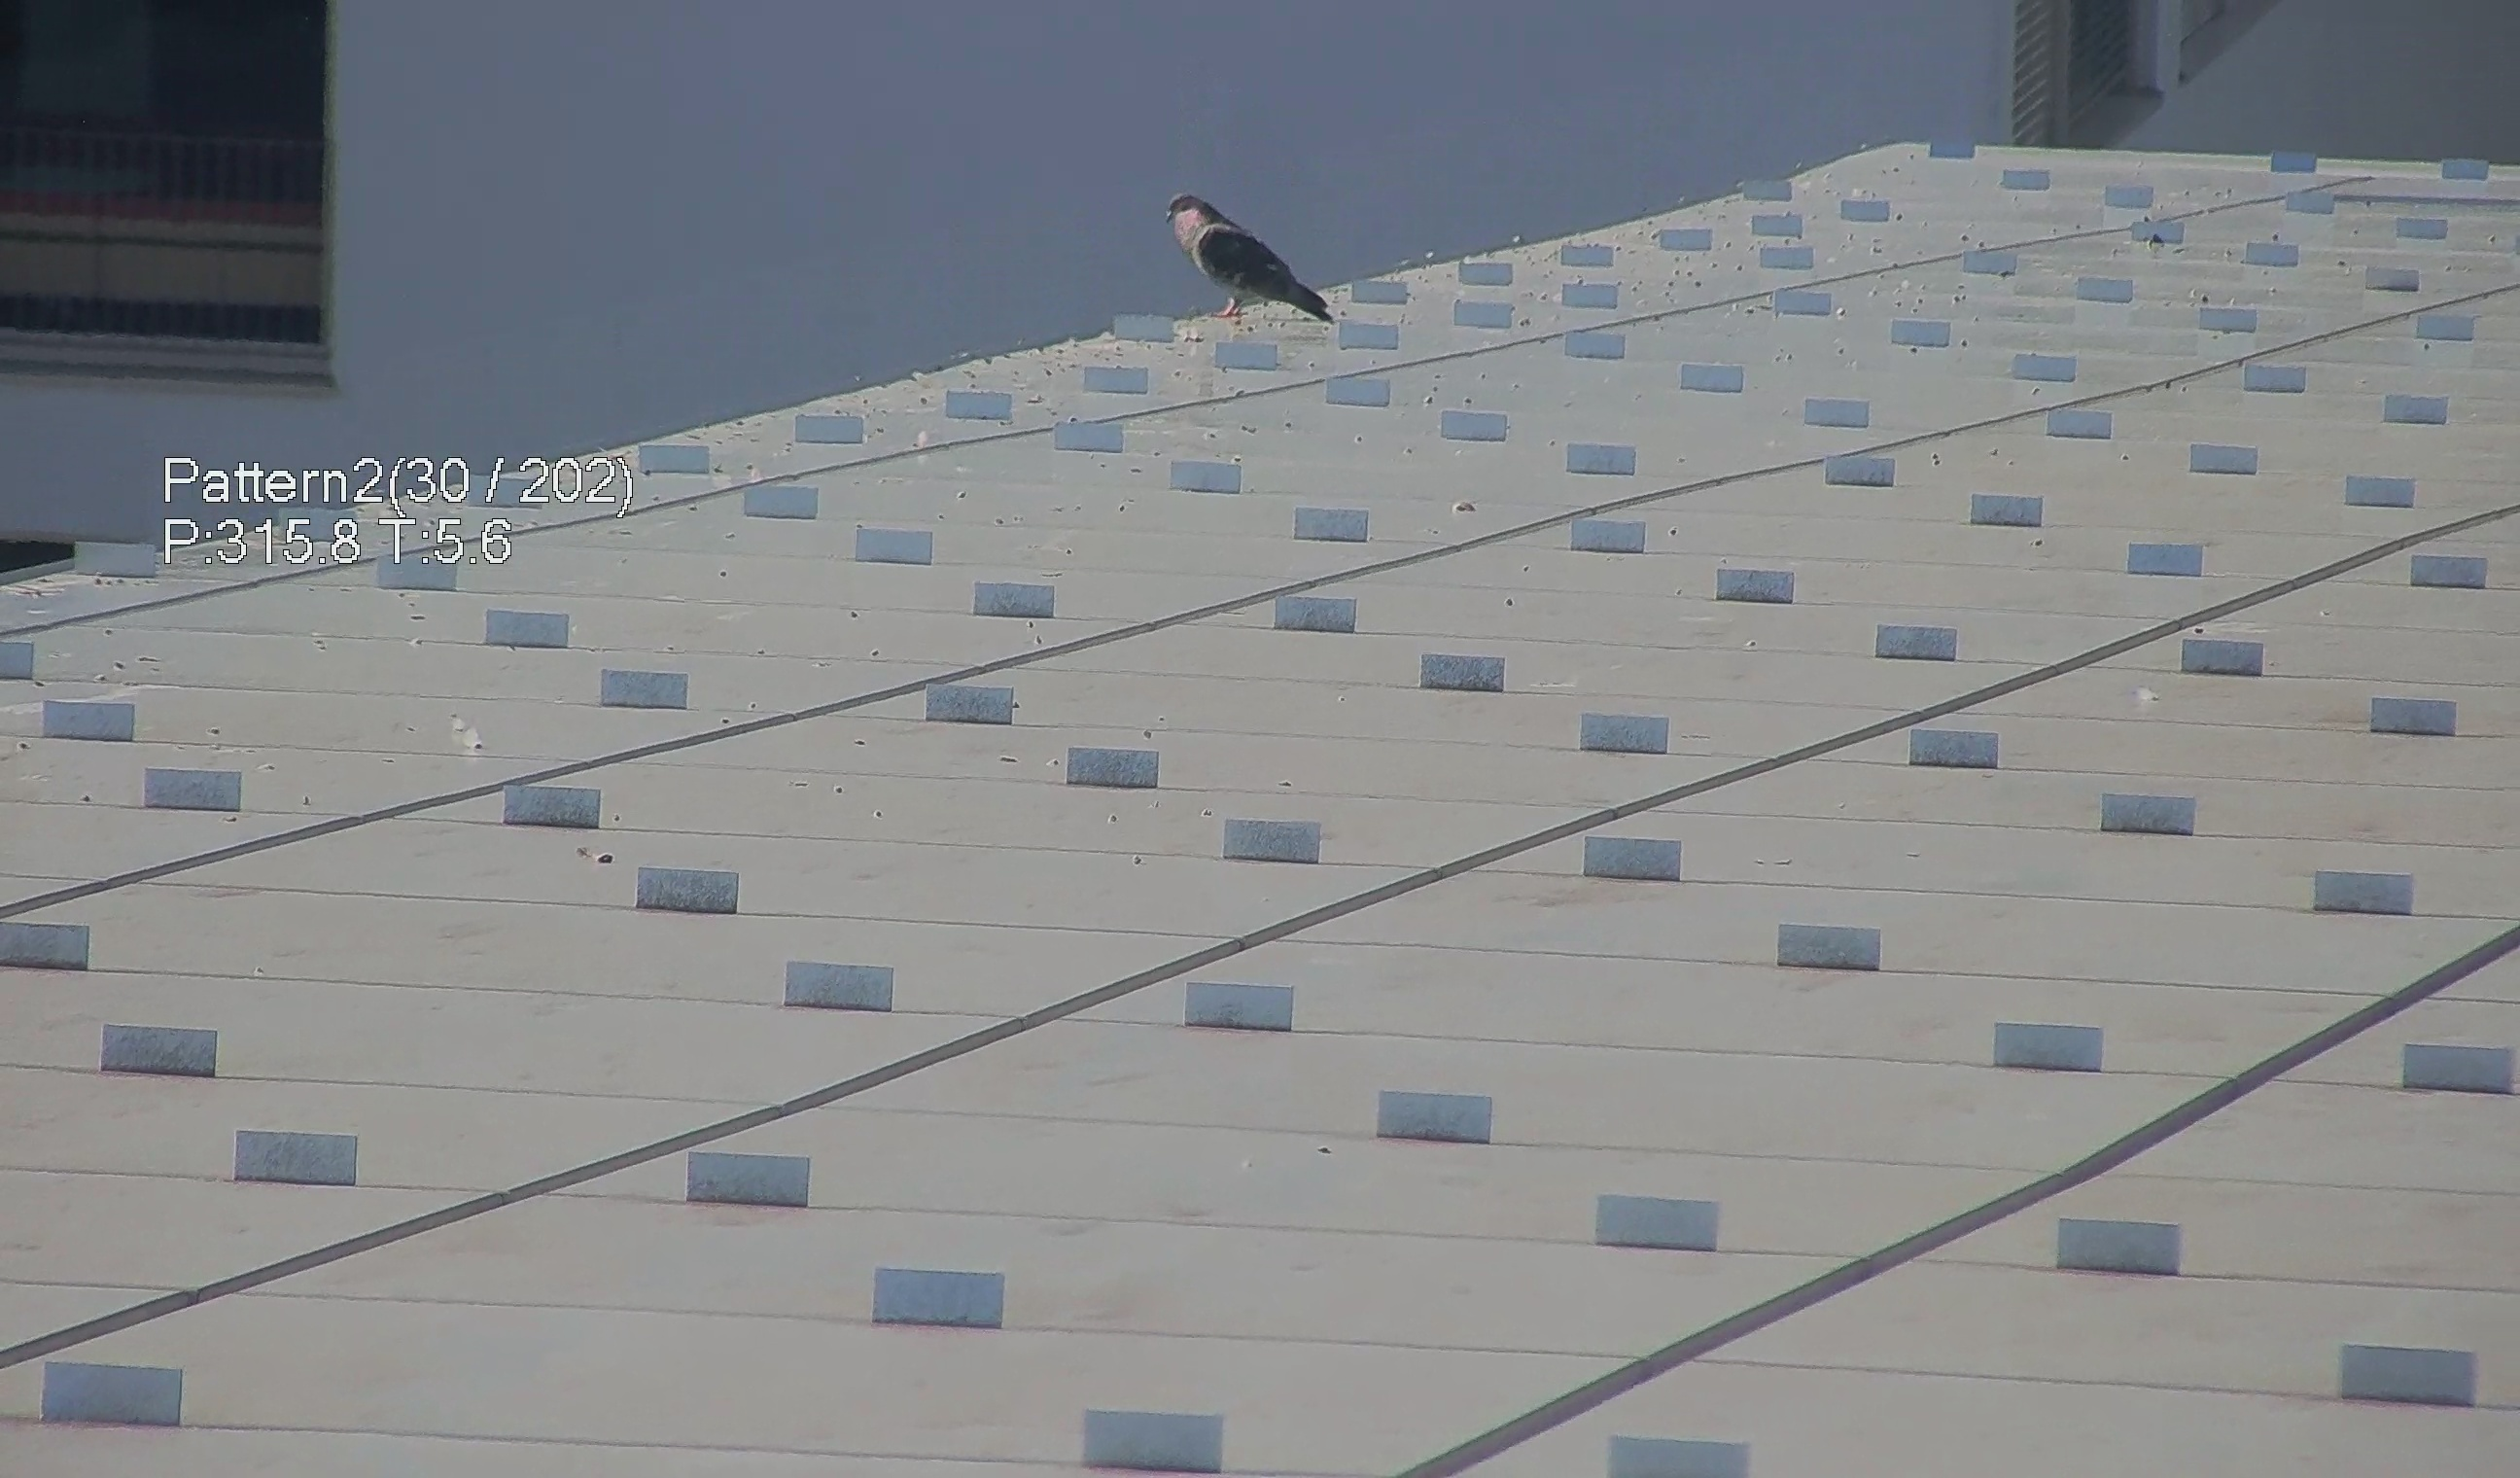Pigeon: (1155, 179, 1336, 329)
